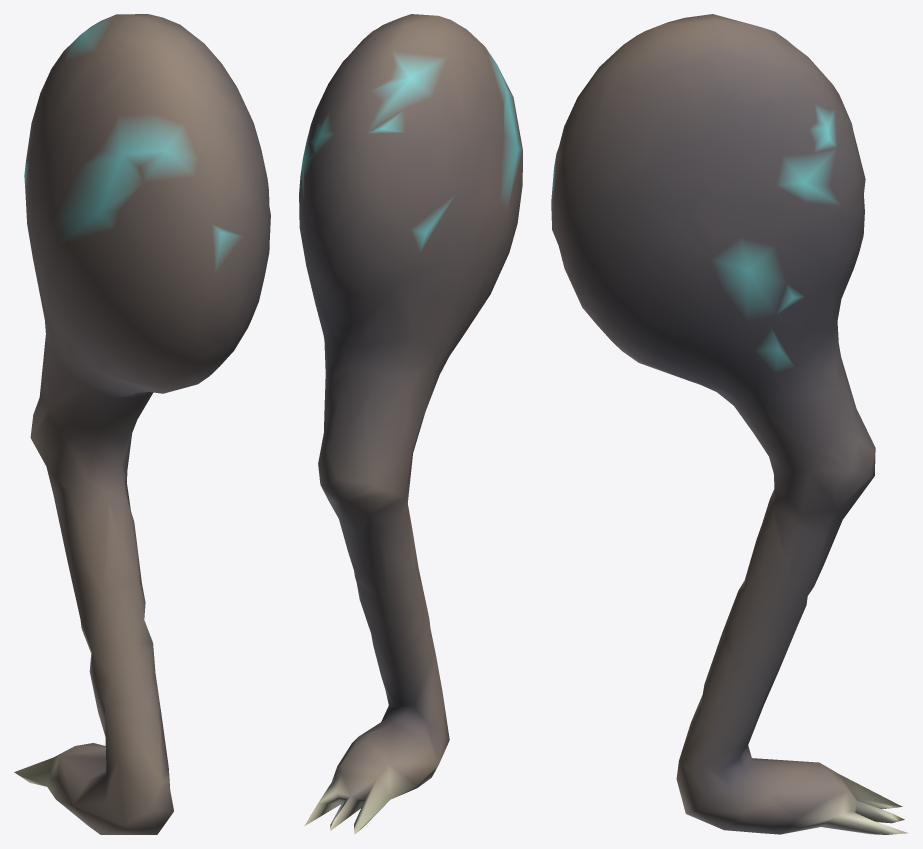
File: hound_leg_bl.glb
3 renders of one model, left to right at view 1: azimuth 30°, elevation 25°; view 2: azimuth 150°, elevation 25°; view 3: azimuth 270°, elevation 25°, orthographic. The views are drawn at different scales.
Visible parts, largest first — view 1: geometry_0; view 2: geometry_0; view 3: geometry_0.
Boxes of the visible parts, x1,y1,x2,y2 form: geometry_0: (14, 14, 270, 834); geometry_0: (299, 14, 522, 834); geometry_0: (551, 14, 907, 834).
Size of the model in its own units: 0.2267 by 0.912 by 0.3663.
